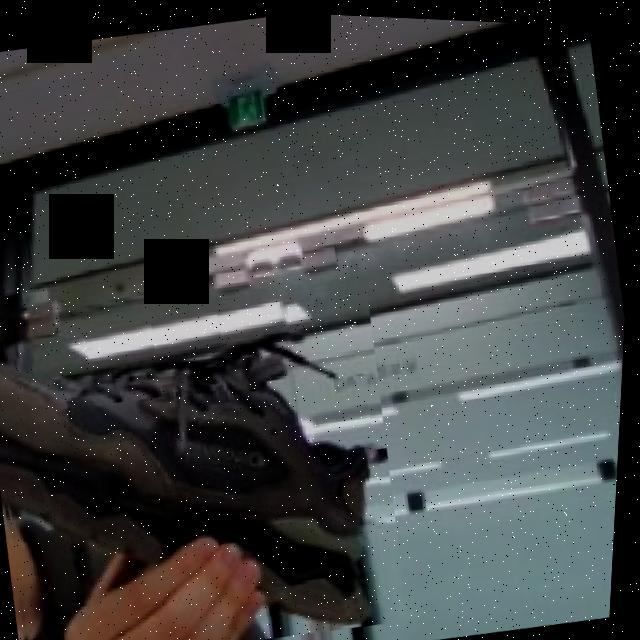shoe: (0, 259, 427, 640)
